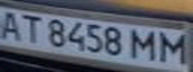4: (63, 20, 87, 52)
5: (84, 21, 106, 55)
8: (42, 16, 69, 48), (103, 25, 127, 57)
A: (0, 8, 27, 41)
M: (154, 29, 193, 65), (127, 28, 163, 61)
T: (15, 12, 48, 44)
